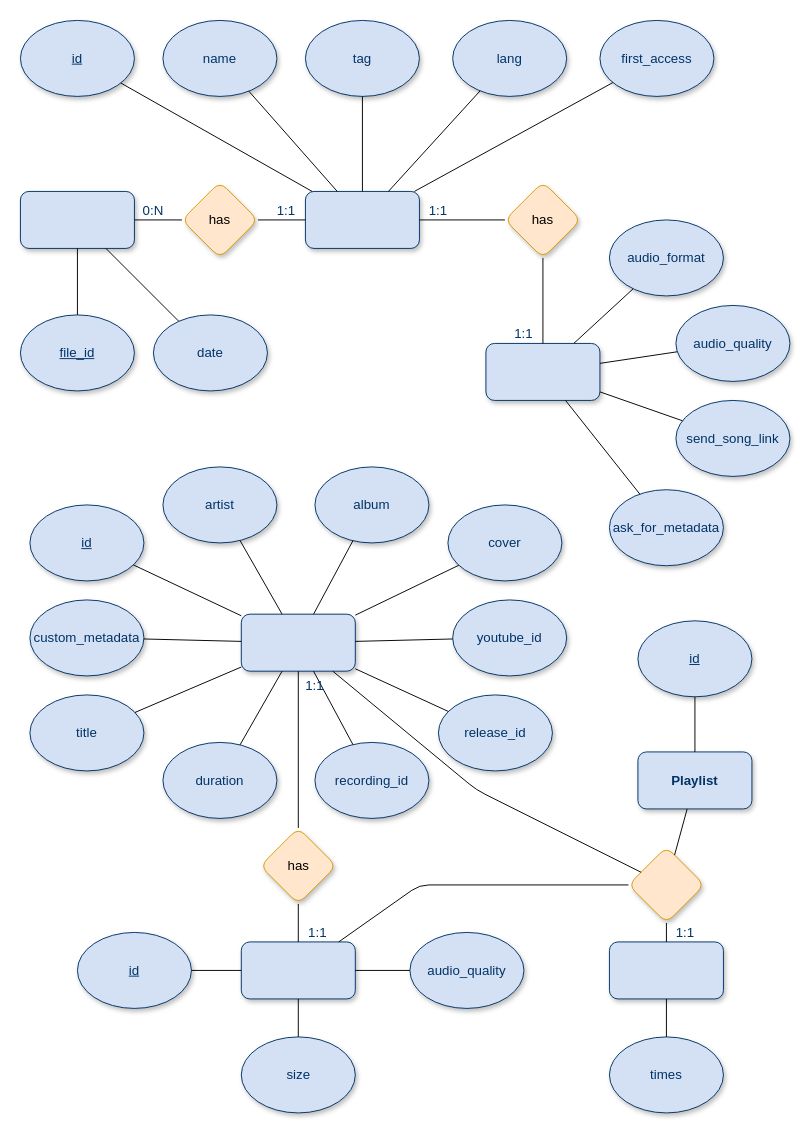
Image size: 812x1136. Some labels were removed from this diagram. The centre of each missing label's shape, as x and y in pixels:
"File" goes at (x=299, y=971).
"has been requested" goes at (x=667, y=886).
"History" goes at (x=78, y=221).
"Metadata" goes at (x=299, y=643).
"Preferences" goes at (x=543, y=373).
"Statistics" goes at (x=667, y=971).
"User" goes at (x=363, y=221).
